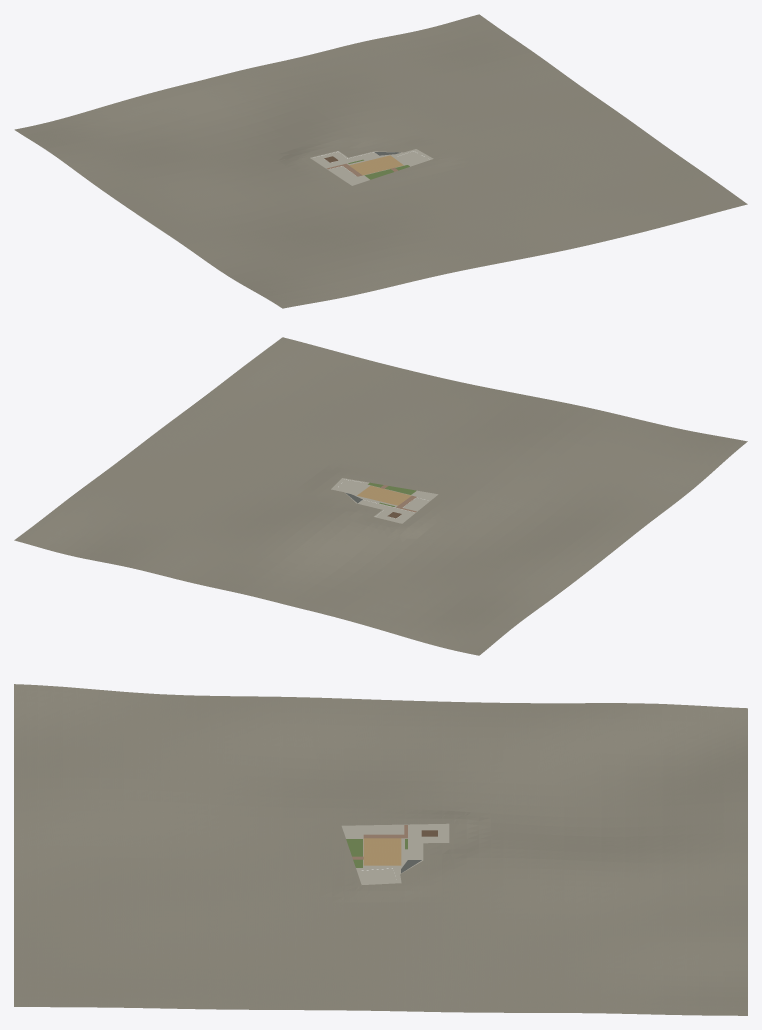
The picture shows the model from 3 angles, top to bottom: view 1: azimuth 30°, elevation 25°; view 2: azimuth 150°, elevation 25°; view 3: azimuth 270°, elevation 25°; orthographic projection. The views are drawn at different scales.
Parts seen in each view (by area): view 1: ground_context-estimated, surface_school-paved-walk, surface_school-field; view 2: ground_context-estimated, surface_school-paved-walk, surface_school-field; view 3: ground_context-estimated, surface_school-field, surface_school-paved-walk.
Part boxes in pixels (bbox=[...]): ground_context-estimated: bbox=[14, 14, 747, 308]; surface_school-paved-walk: bbox=[310, 149, 433, 181]; surface_school-field: bbox=[349, 155, 403, 175]; ground_context-estimated: bbox=[14, 337, 747, 655]; surface_school-paved-walk: bbox=[331, 478, 433, 523]; surface_school-field: bbox=[357, 485, 411, 505]; ground_context-estimated: bbox=[14, 684, 747, 1015]; surface_school-field: bbox=[363, 838, 401, 865]; surface_school-paved-walk: bbox=[345, 823, 449, 884].
Size of the model in its own units: 720 by 27.45 by 720.
7 materials, 7 textured.
